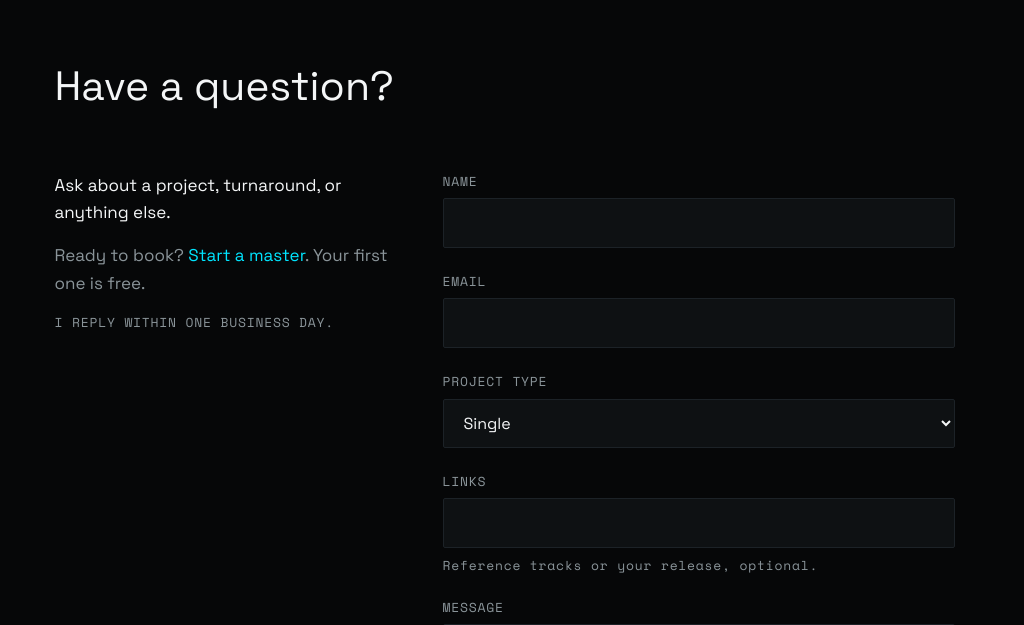
Test: Contact (commerce on, form) › submits valid input and shows the confirmation in place
This screenshot has width=1024, height=625.
Type "Mara Vance" into the field labelled "Name" at (698, 223), box x1=442 y1=198 x2=954 y2=248
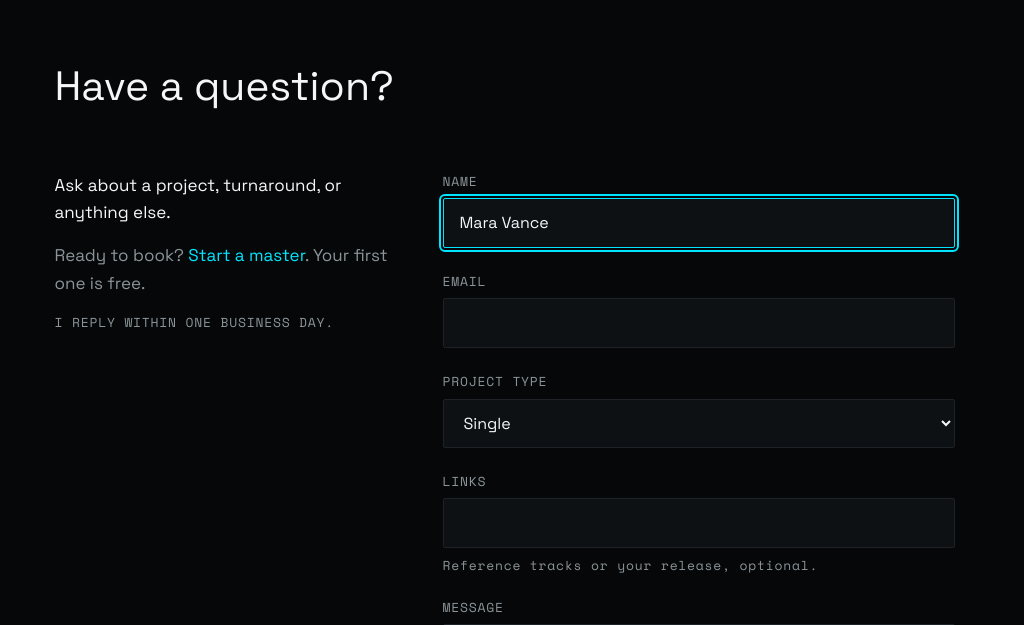
Type "mara@studio.com" into the field labelled "Email" at (698, 323), box x1=442 y1=298 x2=954 y2=348
(page scrolled)
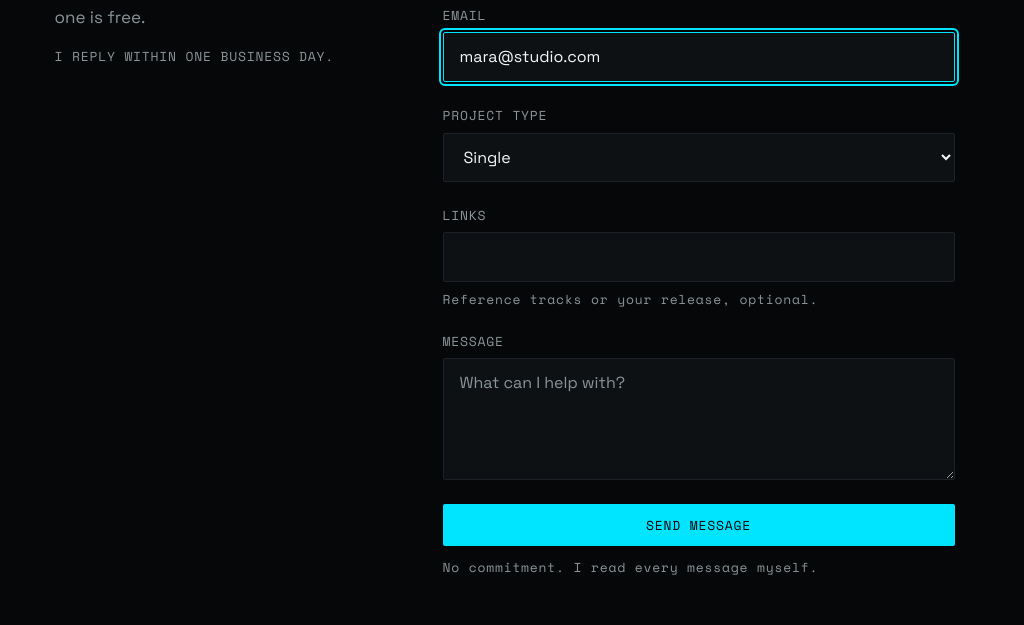
Click the button "Send message" at (698, 525), box x1=442 y1=504 x2=954 y2=546
(page scrolled)
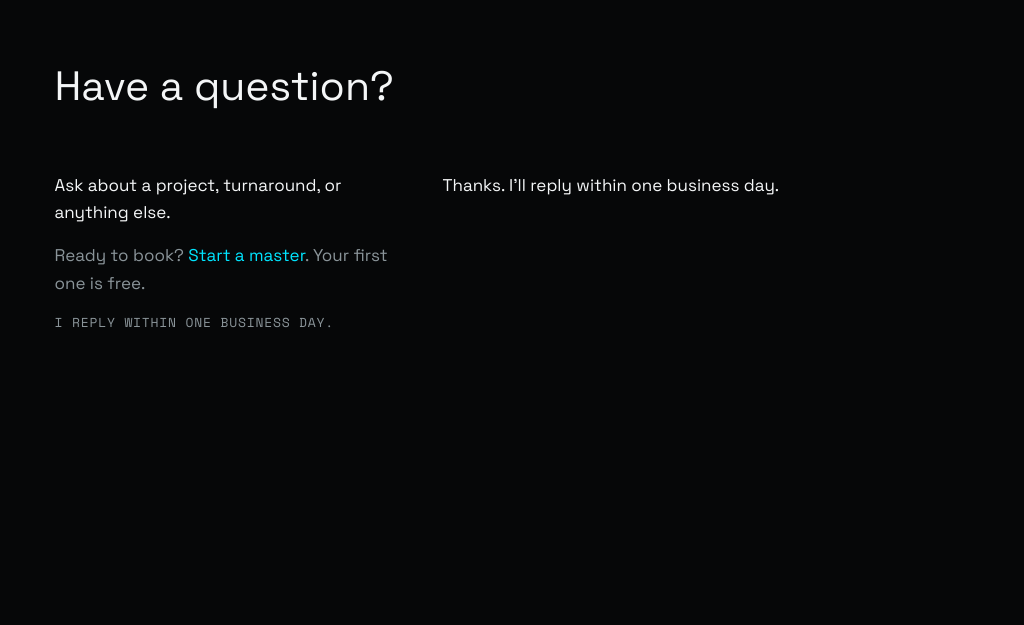
Check: the message shows "Thanks. I'll reply within one business day", box x1=442 y1=174 x2=779 y2=196
